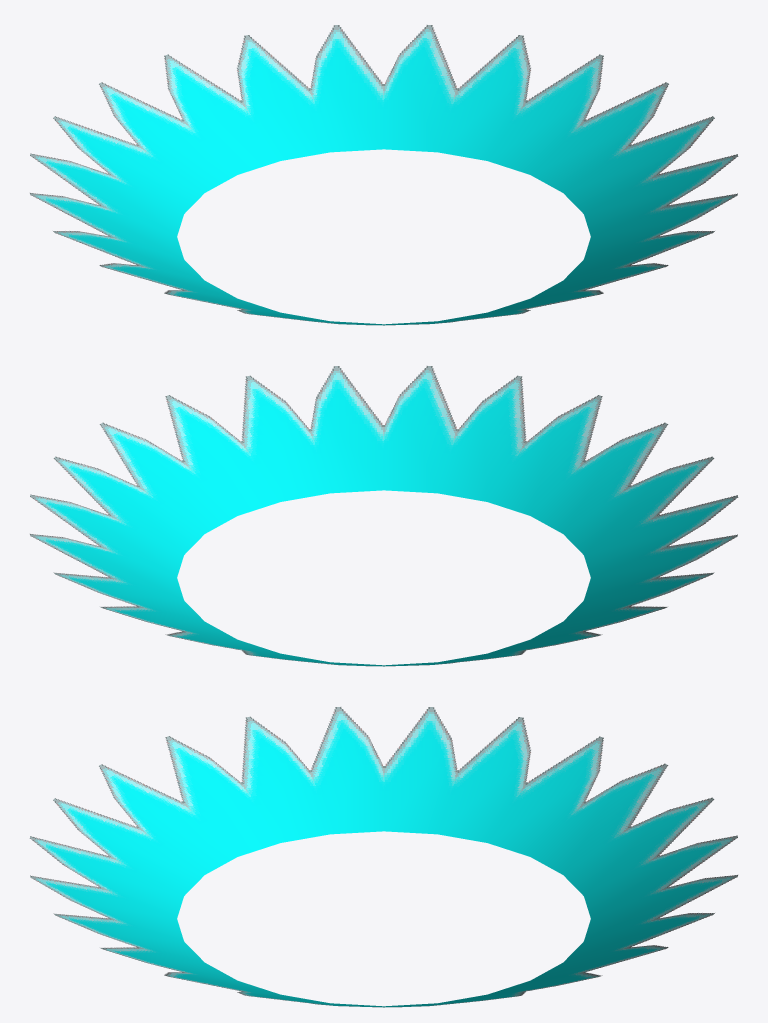
The model's file is HobFlames.fbx.
3 views of the same model, one above another, from view 1: azimuth 30°, elevation 25°; view 2: azimuth 150°, elevation 25°; view 3: azimuth 270°, elevation 25° (orthographic).
Visible parts, largest first — view 1: HobFlames; view 2: HobFlames; view 3: HobFlames.
Part boxes in pixels (x1,y1,x2,y2): HobFlames: (30, 25, 738, 325); HobFlames: (30, 366, 738, 666); HobFlames: (29, 707, 737, 1007).
Size of the model in its own units: 0.973 by 0.0962 by 0.973.
1 material, 1 textured.
